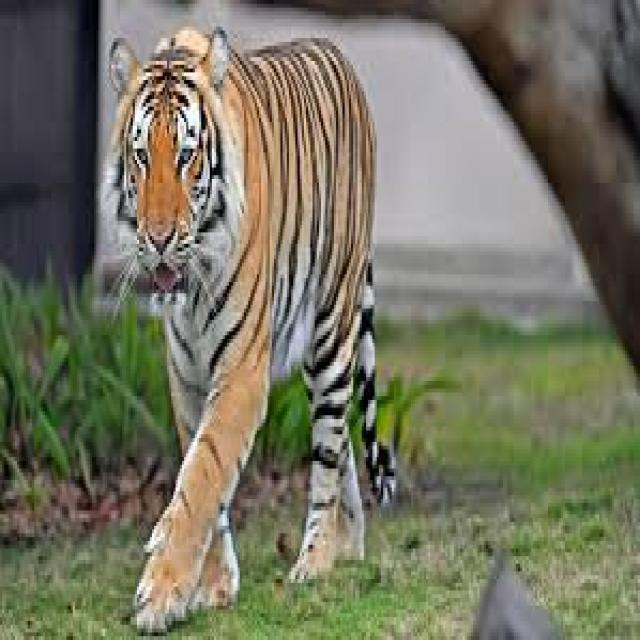Tiger: (94, 19, 396, 632)
